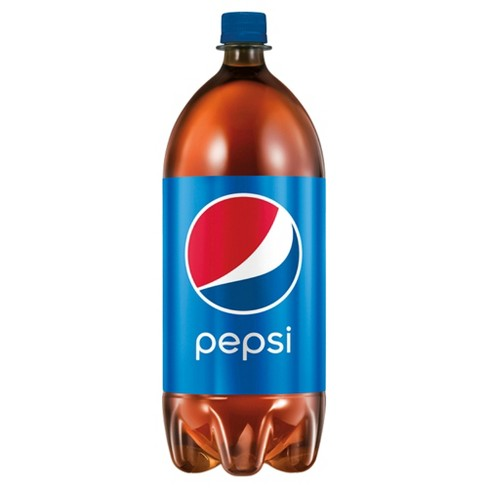pepsi: (180, 192, 303, 314), (180, 194, 303, 314), (183, 192, 301, 314), (182, 192, 301, 312), (183, 192, 301, 312)
